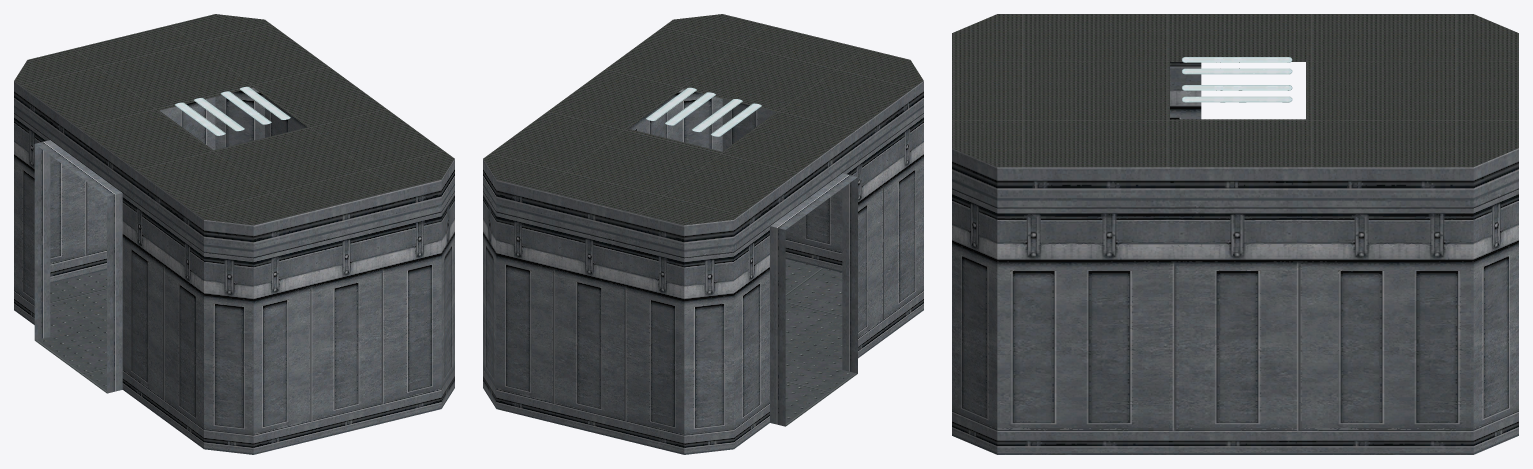
The model's file is mun_all_military_storage_shed_impl_s01_r4_room1_mesh_room1.fbx.
3 views of the same model, side by side, from view 1: azimuth 30°, elevation 25°; view 2: azimuth 150°, elevation 25°; view 3: azimuth 270°, elevation 25° (orthographic). The views are drawn at different scales.
Parts seen in each view (by area): view 1: mesh_node; view 2: mesh_node; view 3: mesh_node.
Boxes of the visible parts, x1,y1,x2,y2 form: mesh_node: (14, 14, 454, 454); mesh_node: (483, 14, 923, 454); mesh_node: (952, 14, 1518, 454).
Size of the model in its own units: 4.25 by 3.63 by 6.25.
